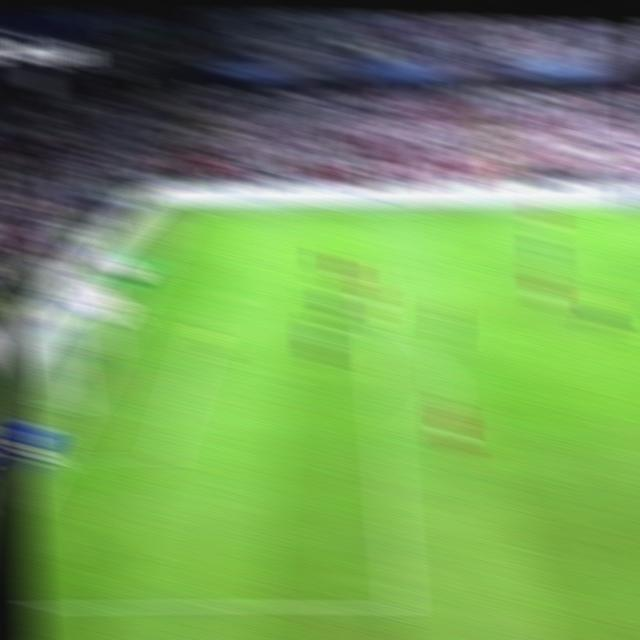bigarea_bottom_inner: (379, 589, 422, 625)
bigarea_top_inner: (353, 252, 388, 274)
bottom_arc_area_intersection: (375, 429, 402, 450)
corner: (172, 205, 195, 215)
smallarea_bottom_inner: (147, 441, 179, 470)
smallarea_bottom_outter: (35, 446, 67, 470)
smallarea_top_outter: (115, 306, 141, 322)
top_arc_area_intersection: (363, 319, 394, 340)
